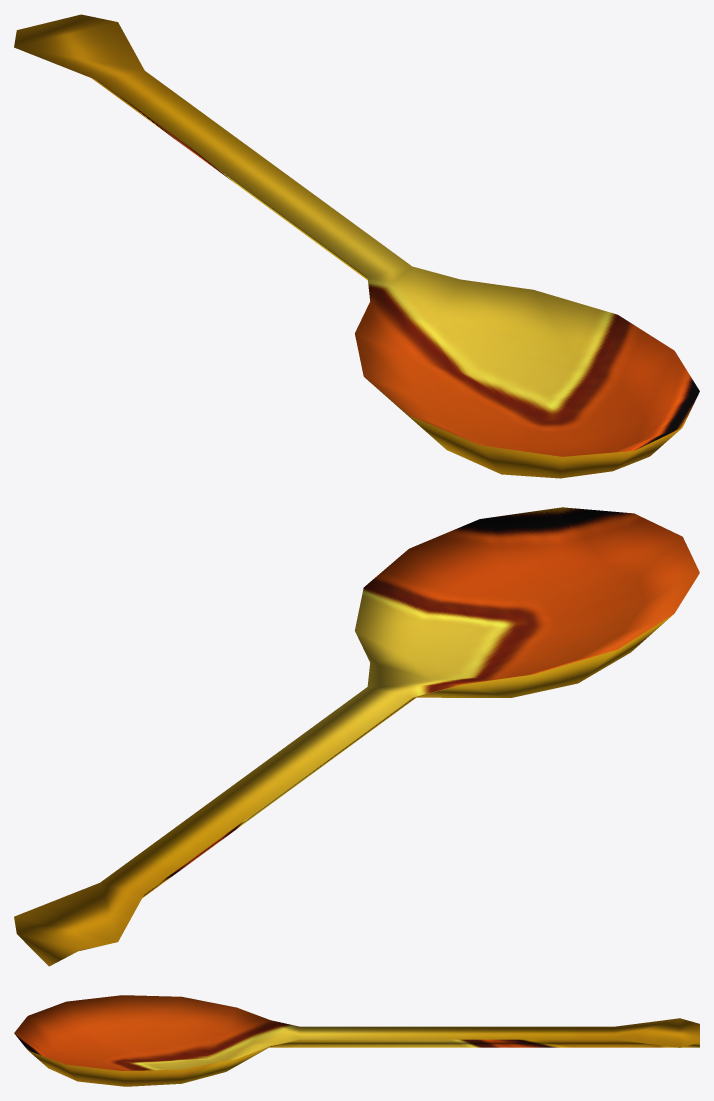
Rendered from eff_mesh_shaozi.fbx.
3 views of the same model, one above another, from view 1: azimuth 30°, elevation 25°; view 2: azimuth 150°, elevation 25°; view 3: azimuth 270°, elevation 25° (orthographic). The views are drawn at different scales.
Parts seen in each view (by area): view 1: shaozi; view 2: shaozi; view 3: shaozi.
Boxes of the visible parts, x1=… form: shaozi: x1=14, y1=14, x2=699, y2=478; shaozi: x1=14, y1=507, x2=699, y2=966; shaozi: x1=14, y1=995, x2=699, y2=1086.
Bounding box in the file's own units: 0.1547 × 0.0401 × 0.5903.
